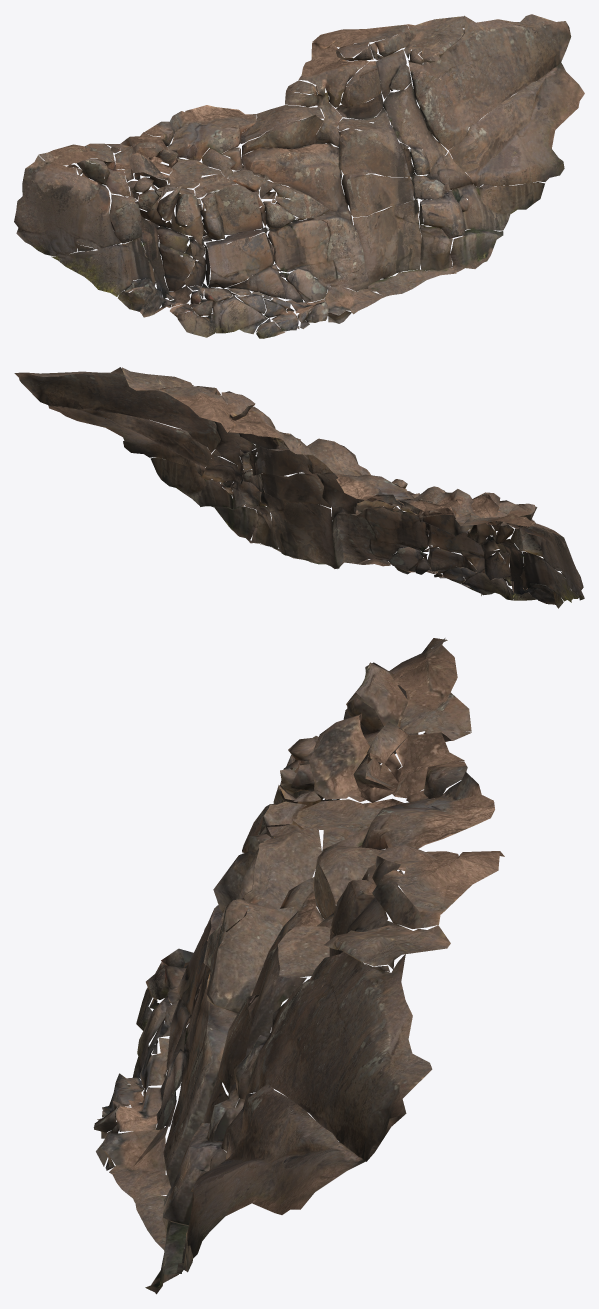
Rendered from namaqualand_cliff_02.glb.
3 views of the same model, one above another, from view 1: azimuth 30°, elevation 25°; view 2: azimuth 150°, elevation 25°; view 3: azimuth 270°, elevation 25° (orthographic). The views are drawn at different scales.
Parts seen in each view (by area): view 1: namaqualand_cliff_02; view 2: namaqualand_cliff_02; view 3: namaqualand_cliff_02.
Boxes of the visible parts, bbox=[...] form: namaqualand_cliff_02: bbox=[14, 14, 584, 338]; namaqualand_cliff_02: bbox=[14, 367, 584, 608]; namaqualand_cliff_02: bbox=[93, 638, 504, 1294].
Size of the model in its own units: 20.18 by 7.2 by 6.55.
1 material, 1 textured.
